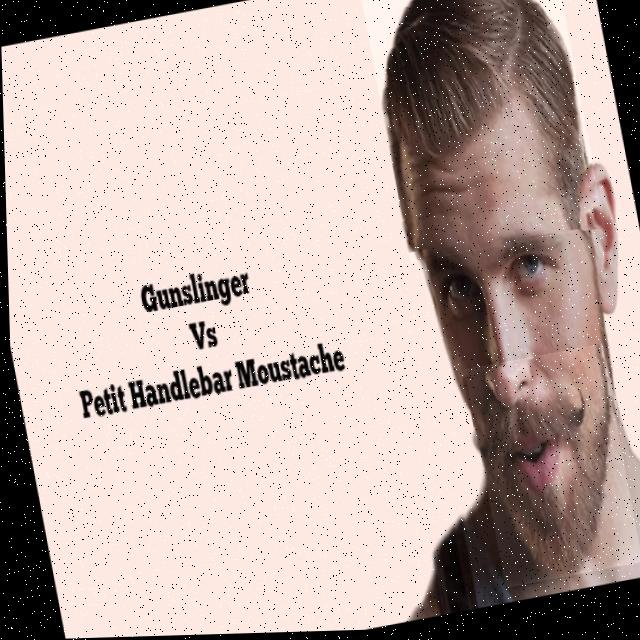beard: (477, 350, 611, 580)
hair: (385, 0, 587, 244)
